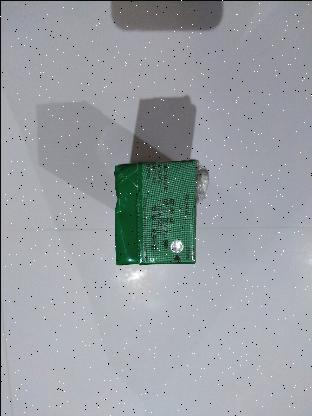Others: (112, 159, 210, 267)
